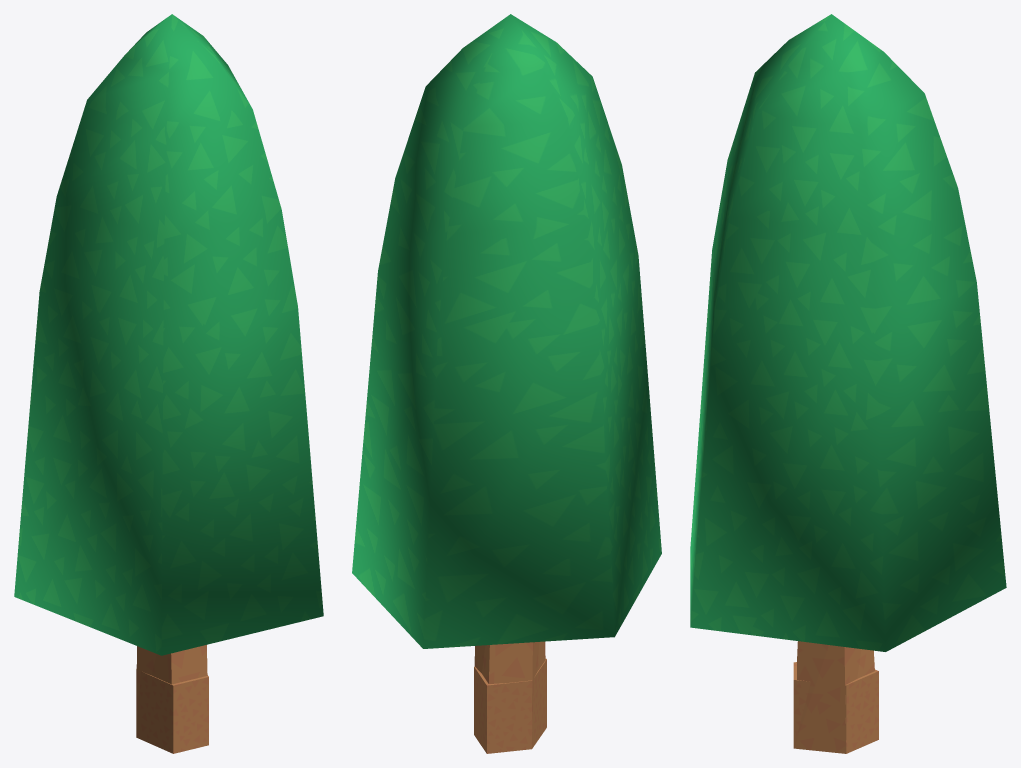
File: cedar_tree.glb
3 renders of one model, left to right at view 1: azimuth 30°, elevation 25°; view 2: azimuth 150°, elevation 25°; view 3: azimuth 270°, elevation 25°, orthographic.
Parts seen in each view (by area): view 1: cedar_tree_a, cedar_tree; view 2: cedar_tree_a, cedar_tree; view 3: cedar_tree_a, cedar_tree.
Boxes of the visible parts, x1,y1,x2,y2 form: cedar_tree_a: (14, 14, 323, 732); cedar_tree: (136, 669, 208, 753); cedar_tree_a: (352, 14, 661, 743); cedar_tree: (474, 658, 546, 753); cedar_tree_a: (690, 14, 1006, 753); cedar_tree: (793, 662, 878, 753).
Size of the model in its own units: 1.59 by 4.17 by 1.65.
Materials: 2 (2 with a texture image).
